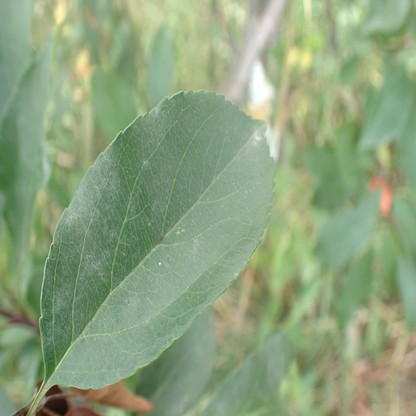powder: (42, 145, 121, 346), (127, 101, 170, 221), (191, 238, 198, 263), (252, 128, 262, 144)
